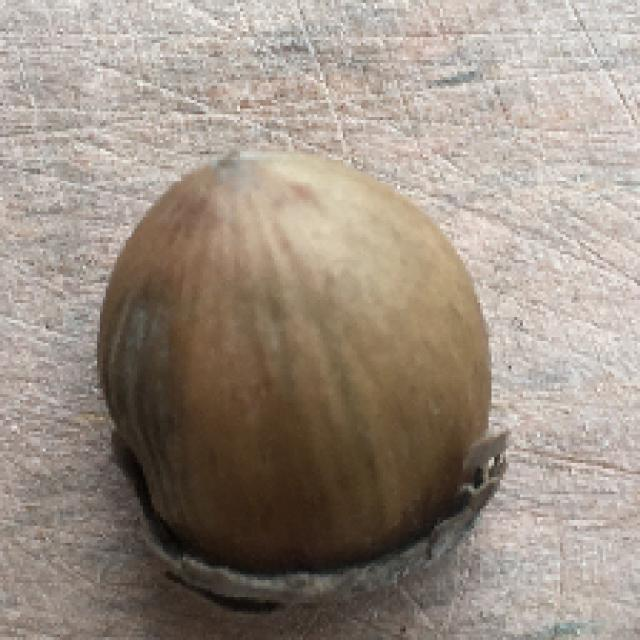damagedHazelnut: (90, 133, 526, 622)
